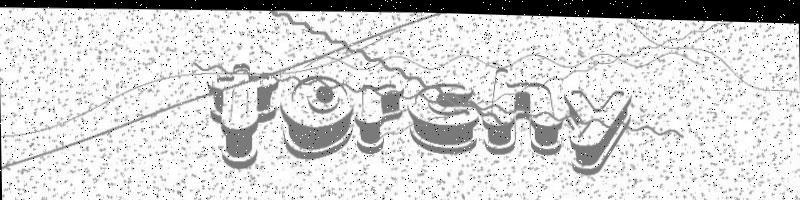c: (407, 79, 479, 152)
h: (482, 64, 565, 152)
o: (280, 72, 354, 158)
r: (355, 80, 404, 151)
t: (207, 60, 278, 168)
y: (564, 86, 631, 171)
